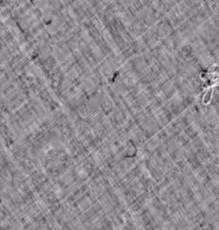snag: (196, 61, 219, 111)
